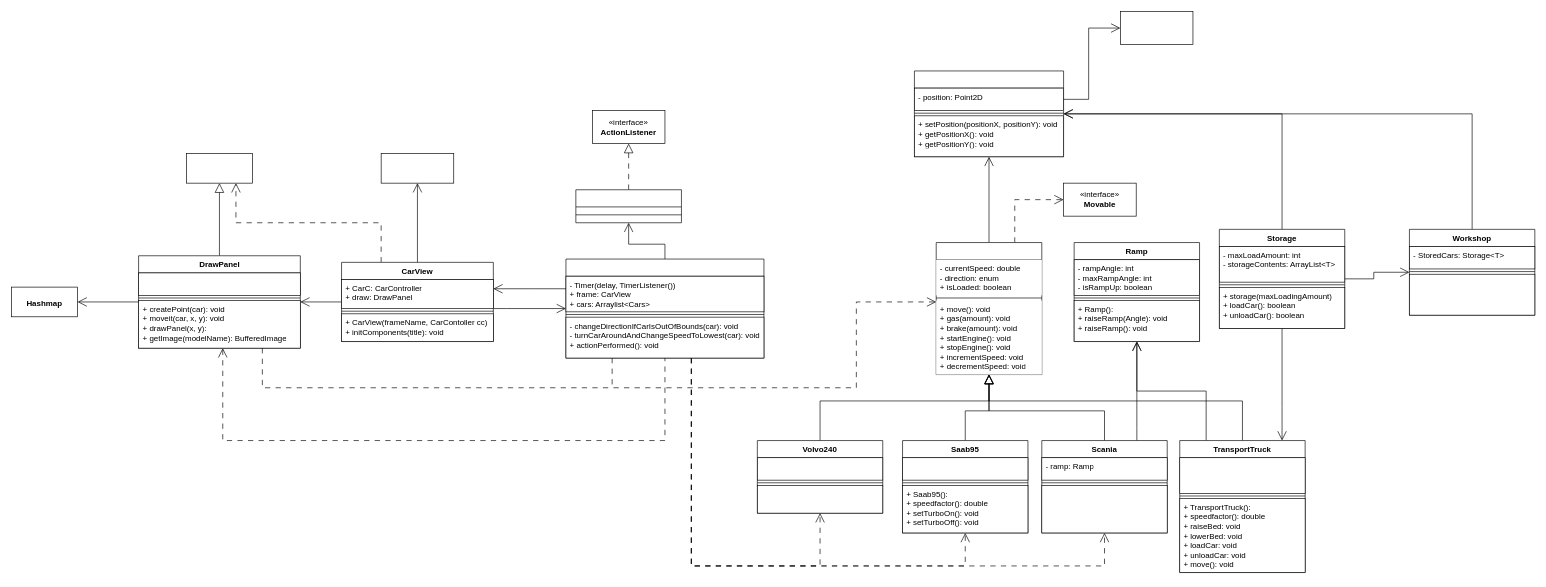
Some shapes in this 1546 by 587 pixel diagram are drawn without their labels. The box of each missing label's shape, as (x1, y1, x2, y2) in pixels:
+ Scania(): + speedfactor(): double + raiseBedAngle: void + lowerBedAngle: void: (1041, 485, 1167, 533)
+ Volvo240(): + speedfactor(): double: (757, 485, 883, 513)
- ramp: Ramp - transportedCars: Storage<Cars> - maxLoadWeight: int: (1179, 457, 1305, 493)
- trimfactor: double: (757, 457, 883, 480)
- turboOn: boolean: (902, 457, 1028, 480)
CarController: (565, 258, 764, 358)
carPoints: Hashmap<Cars, Point>: (138, 272, 300, 295)
Cars: (936, 242, 1042, 375)
JFrame: (380, 153, 454, 183)
Jpanel: (186, 153, 252, 183)
Object: (914, 70, 1064, 157)
Point2D: (1120, 11, 1193, 45)
TimerListener: (575, 189, 681, 223)
Workshop(): loadCar(T car): void unloadCar(T car): void: (1409, 274, 1535, 315)
